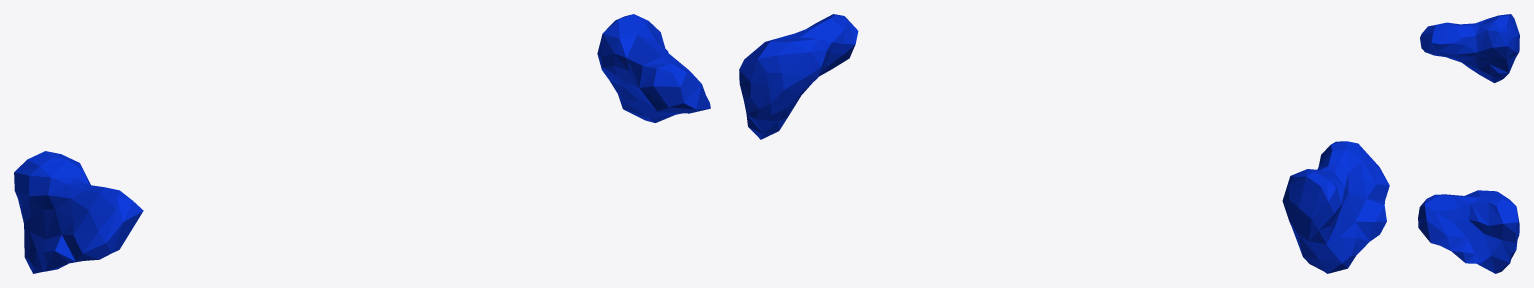
Rendered from 39-Cem-central amygdaloid nucleus, medial division-('0.0000', '0.2275', '1.0000').obj.
The picture shows the model from 3 angles, left to right: view 1: azimuth 30°, elevation 25°; view 2: azimuth 150°, elevation 25°; view 3: azimuth 270°, elevation 25°; orthographic projection. The views are drawn at different scales.
Size of the model in its own units: 135 by 21.7 by 28.12.
